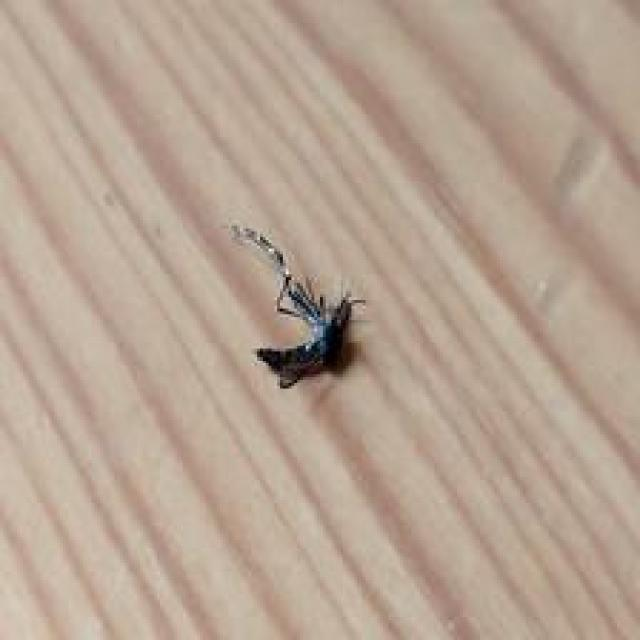Aedes albopictus: (223, 220, 366, 391)
